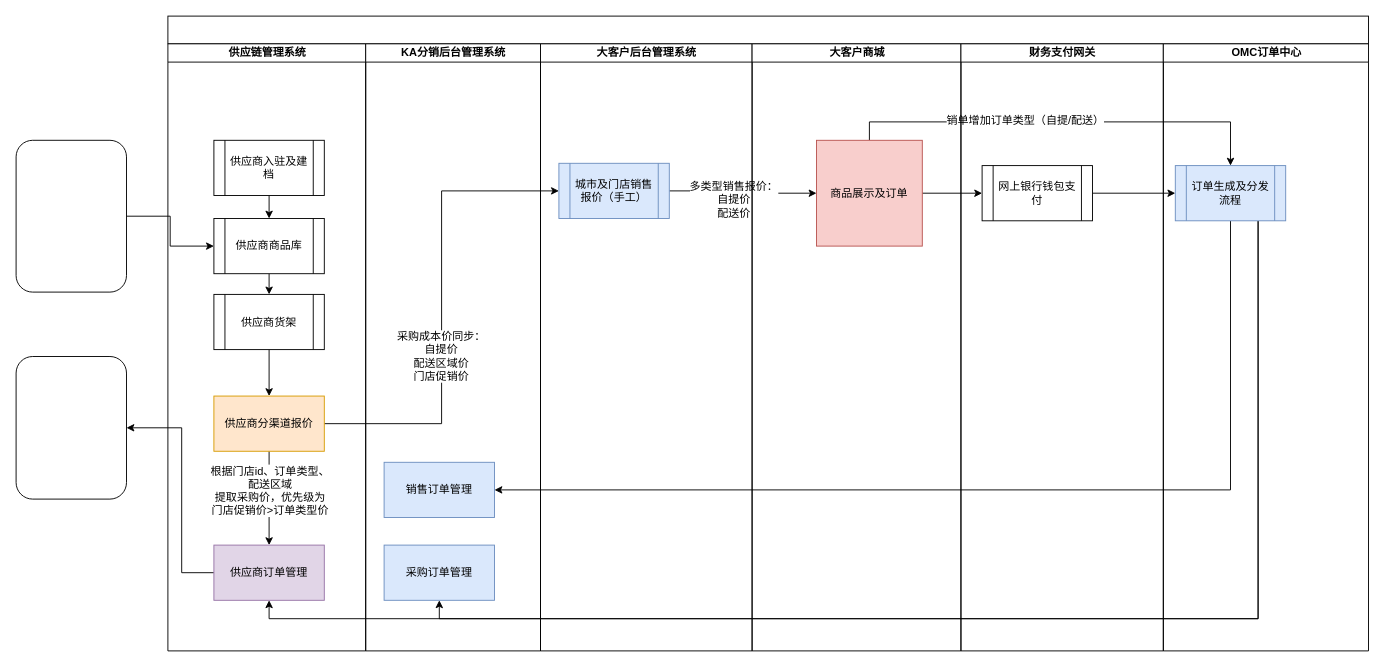
The diagram is 1385 pixels wide and 667 high, and some of its shapes have lost their labels. The shapes that lost their labels are listed below. From the top down, each one's centre as x and y in pixels, then its label:
point (767, 29): 供应商分销渠道多类型采购价项目需求分解图
point (70, 215): 美菜商品档案库
point (70, 427): 供应商融合平台
